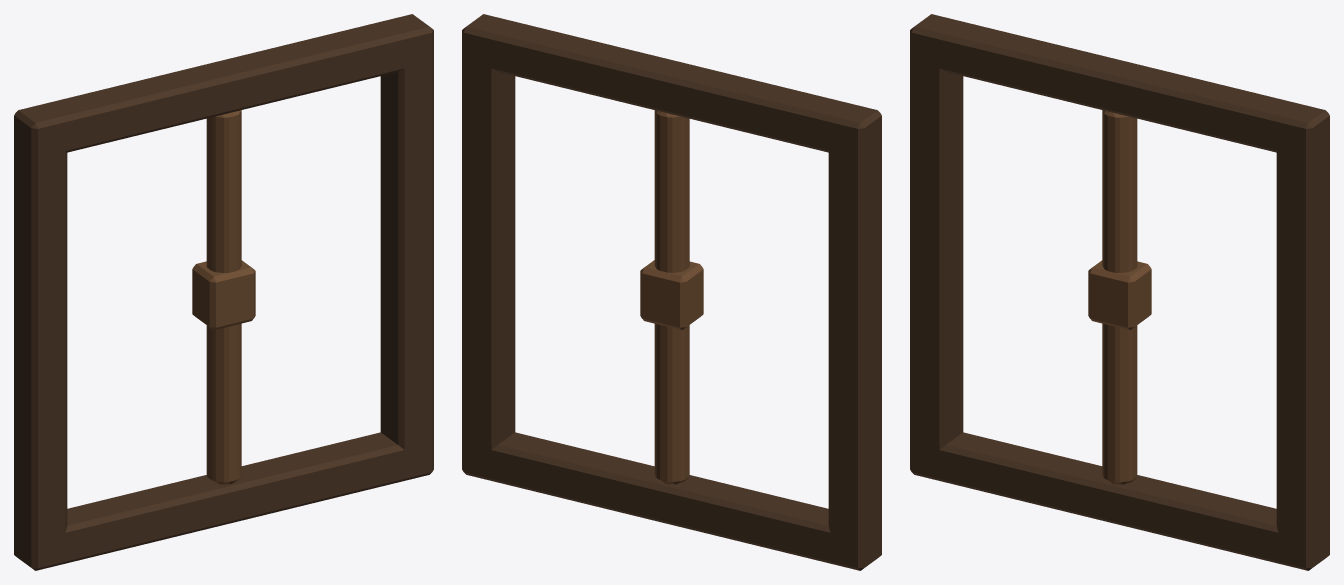
File: mdvl_village_window_open_01.glb
The picture shows the model from 3 angles, left to right: view 1: azimuth 30°, elevation 25°; view 2: azimuth 150°, elevation 25°; view 3: azimuth 330°, elevation 25°; orthographic projection.
Parts seen in each view (by area): view 1: mdvl_village_window_open_01; view 2: mdvl_village_window_open_01; view 3: mdvl_village_window_open_01.
Part boxes in pixels (x1,y1,x2,y2): mdvl_village_window_open_01: [14, 14, 433, 570]; mdvl_village_window_open_01: [462, 14, 881, 570]; mdvl_village_window_open_01: [910, 14, 1329, 570].
Bounding box in the file's own units: 0.788 × 0.838 × 0.075.
1 material, 1 textured.
